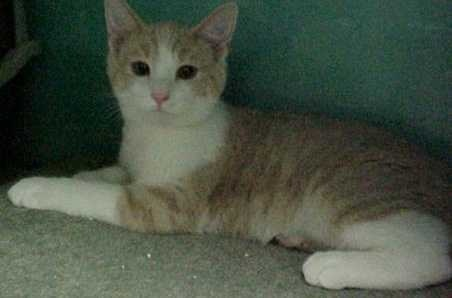Cat: (104, 0, 237, 232)
